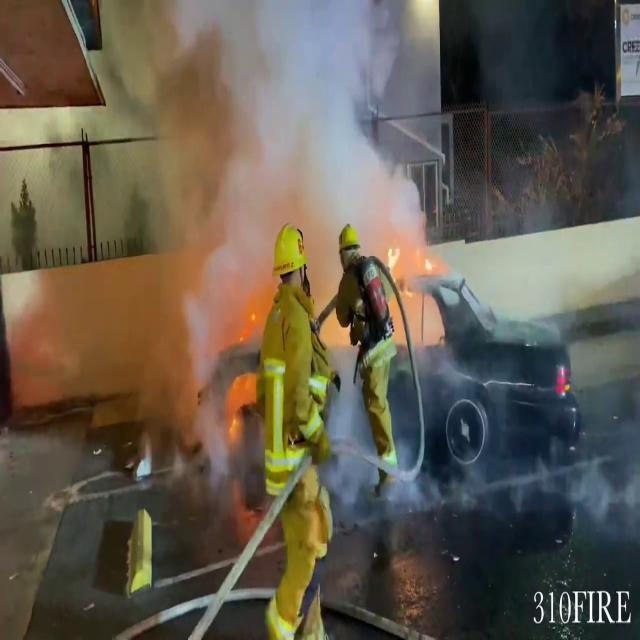Smoke: (127, 0, 442, 465)
